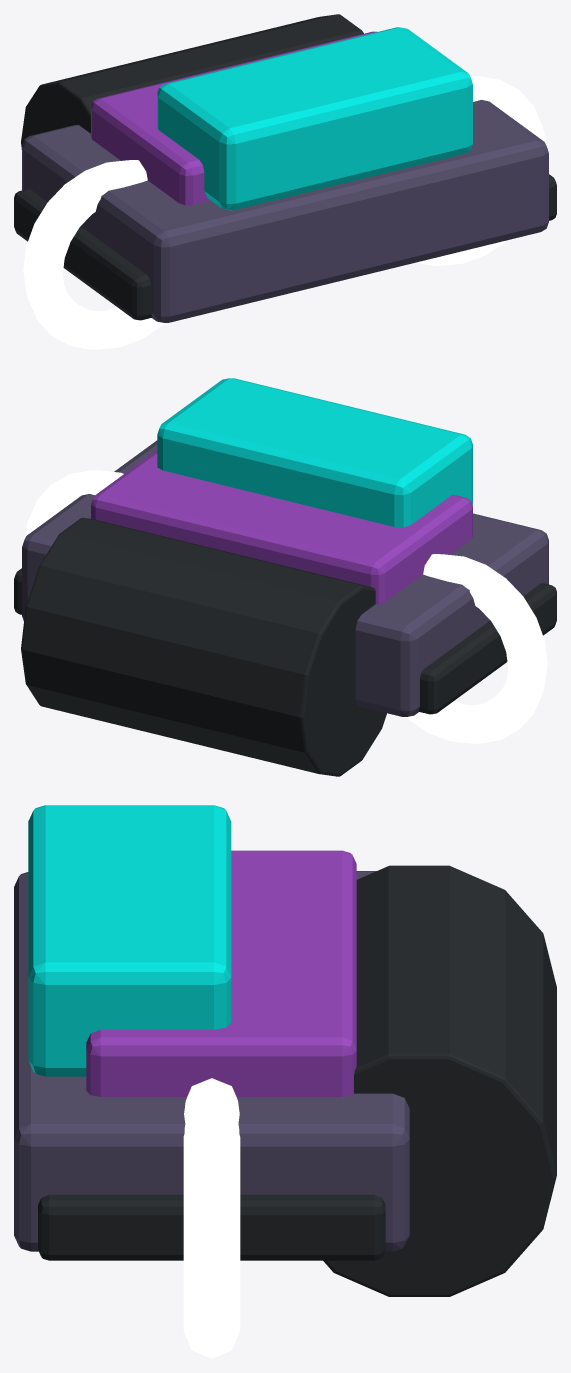
Rendered from SM_Chronolegion_CH_ProbabilistHarvester.fbx.
The picture shows the model from 3 angles, top to bottom: view 1: azimuth 30°, elevation 25°; view 2: azimuth 150°, elevation 25°; view 3: azimuth 270°, elevation 25°; orthographic projection. The views are drawn at different scales.
Visible parts, largest first — view 1: SM_Chronolegion_CH_ProbabilistHarvester, SM_Chronolegion_CH_ProbabilistHarvester_OreBin, SM_Chronolegion_CH_ProbabilistHarvester_HoverRing_-1, SM_Chronolegion_CH_ProbabilistHarvester_Excavator, SM_Chronolegion_CH_ProbabilistHarvester_UpperHull, SM_Chronolegion_CH_ProbabilistHarvester_HoverPod_-1, SM_Chronolegion_CH_ProbabilistHarvester_HoverRing_+1; view 2: SM_Chronolegion_CH_ProbabilistHarvester_Excavator, SM_Chronolegion_CH_ProbabilistHarvester_OreBin, SM_Chronolegion_CH_ProbabilistHarvester_UpperHull, SM_Chronolegion_CH_ProbabilistHarvester, SM_Chronolegion_CH_ProbabilistHarvester_HoverRing_-1, SM_Chronolegion_CH_ProbabilistHarvester_HoverPod_-1, SM_Chronolegion_CH_ProbabilistHarvester_HoverRing_+1; view 3: SM_Chronolegion_CH_ProbabilistHarvester_Excavator, SM_Chronolegion_CH_ProbabilistHarvester_OreBin, SM_Chronolegion_CH_ProbabilistHarvester, SM_Chronolegion_CH_ProbabilistHarvester_UpperHull, SM_Chronolegion_CH_ProbabilistHarvester_HoverPod_+1, SM_Chronolegion_CH_ProbabilistHarvester_HoverRing_+1.
Boxes of the visible parts, box(x1,y1,x2,y2) form: SM_Chronolegion_CH_ProbabilistHarvester: box(22, 99, 548, 322); SM_Chronolegion_CH_ProbabilistHarvester_OreBin: box(157, 27, 472, 210); SM_Chronolegion_CH_ProbabilistHarvester_HoverRing_-1: box(23, 160, 164, 349); SM_Chronolegion_CH_ProbabilistHarvester_Excavator: box(21, 14, 363, 149); SM_Chronolegion_CH_ProbabilistHarvester_UpperHull: box(91, 31, 376, 205); SM_Chronolegion_CH_ProbabilistHarvester_HoverPod_-1: box(14, 189, 152, 320); SM_Chronolegion_CH_ProbabilistHarvester_HoverRing_+1: box(416, 76, 546, 265); SM_Chronolegion_CH_ProbabilistHarvester_Excavator: box(21, 517, 386, 776); SM_Chronolegion_CH_ProbabilistHarvester_OreBin: box(157, 378, 472, 527); SM_Chronolegion_CH_ProbabilistHarvester_UpperHull: box(91, 450, 472, 604); SM_Chronolegion_CH_ProbabilistHarvester: box(22, 440, 548, 716); SM_Chronolegion_CH_ProbabilistHarvester_HoverRing_-1: box(406, 554, 547, 743); SM_Chronolegion_CH_ProbabilistHarvester_HoverPod_-1: box(418, 583, 556, 714); SM_Chronolegion_CH_ProbabilistHarvester_HoverRing_+1: box(24, 470, 123, 538); SM_Chronolegion_CH_ProbabilistHarvester_Excavator: box(323, 865, 556, 1296); SM_Chronolegion_CH_ProbabilistHarvester_OreBin: box(28, 805, 231, 1076); SM_Chronolegion_CH_ProbabilistHarvester: box(14, 871, 409, 1251); SM_Chronolegion_CH_ProbabilistHarvester_UpperHull: box(86, 850, 356, 1096); SM_Chronolegion_CH_ProbabilistHarvester_HoverPod_+1: box(38, 1194, 385, 1260); SM_Chronolegion_CH_ProbabilistHarvester_HoverRing_+1: box(183, 1078, 240, 1358).
Size of what is drawn, in the model's own units: 587 by 383 by 269.
